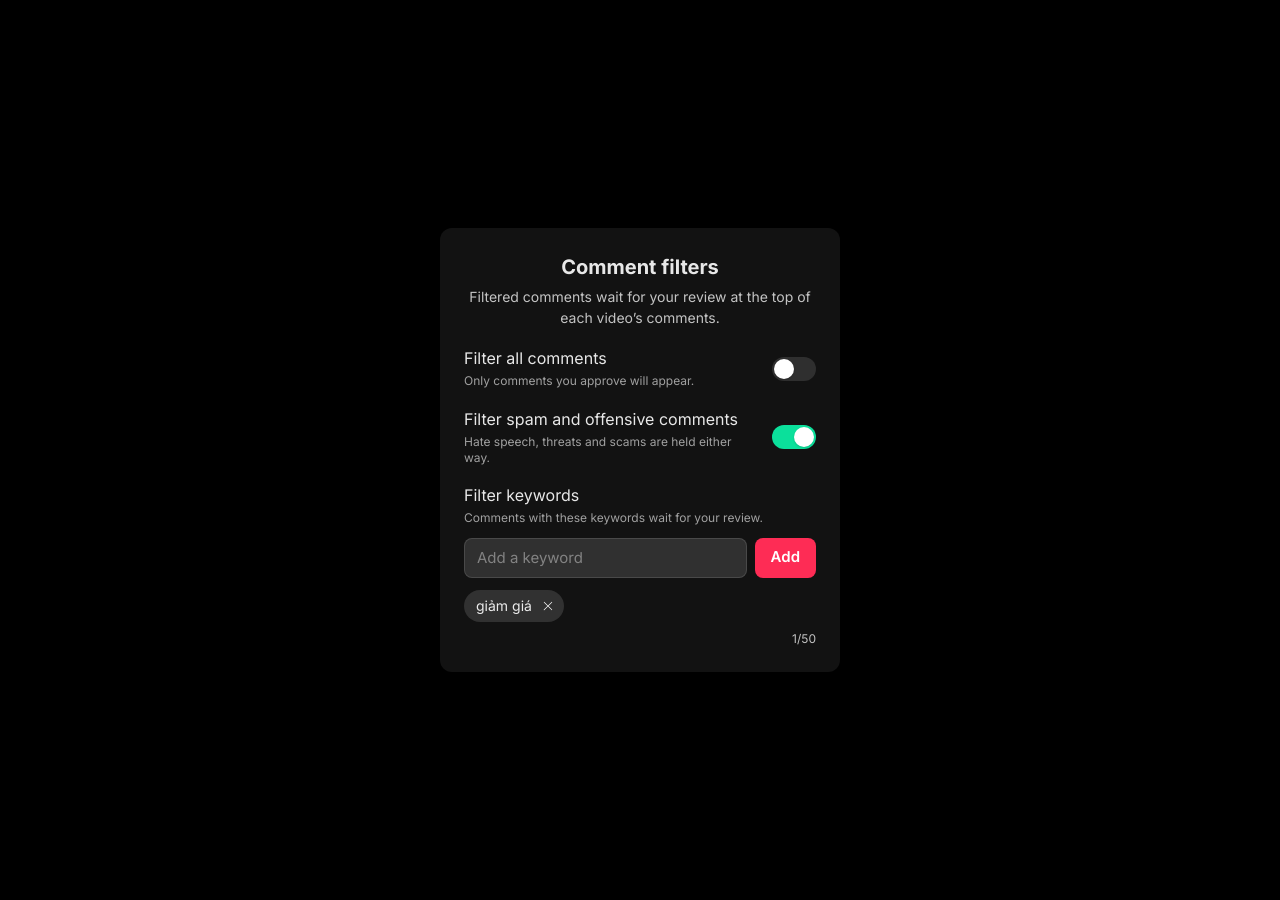
CommentFiltersModal › says a keyword is already filtered instead of sending it again
Type "Giảm Giá" into the field labelled "Add a keyword" at (605, 558), box [464, 538, 747, 578]
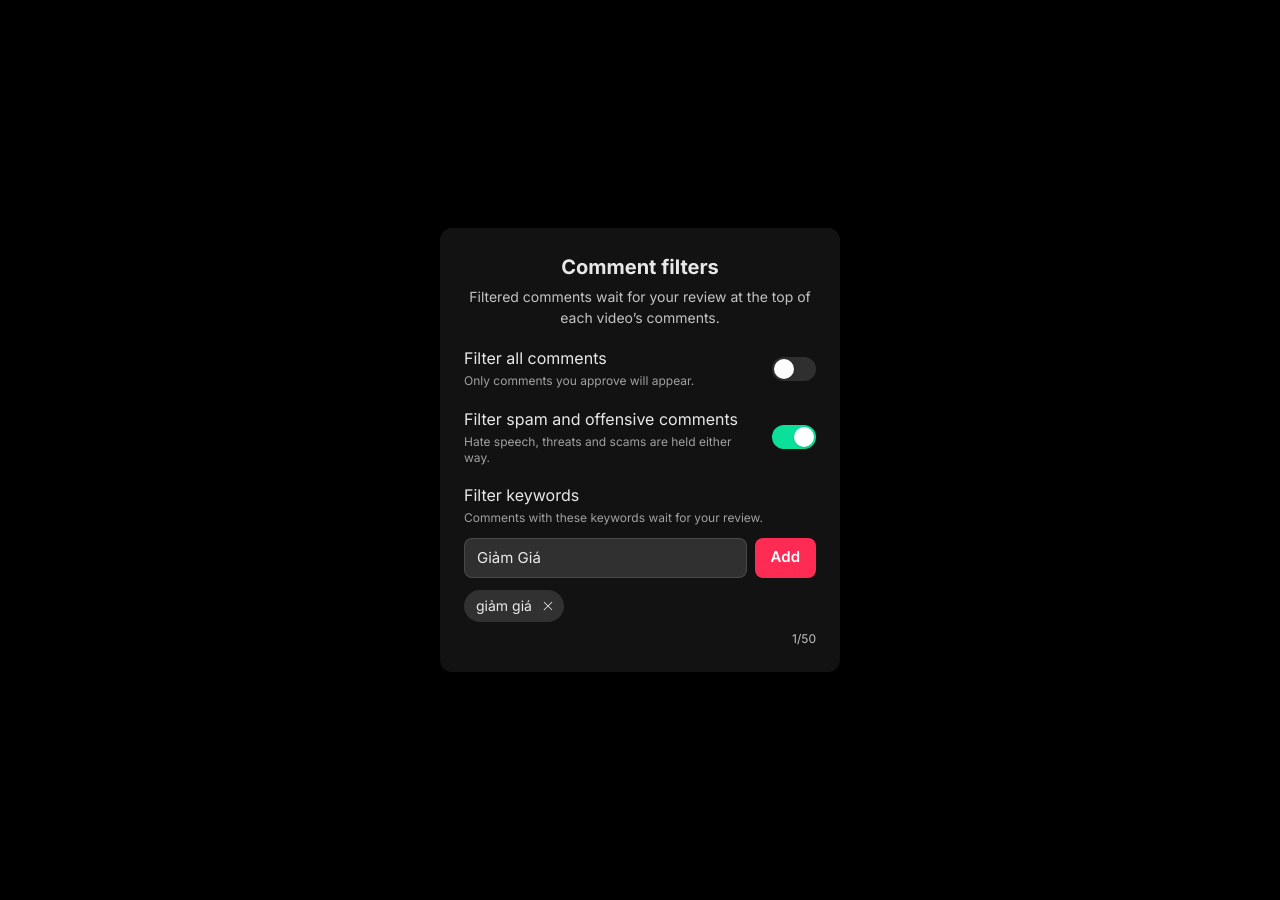
Click the button "Add" at (785, 558), box [755, 538, 816, 578]
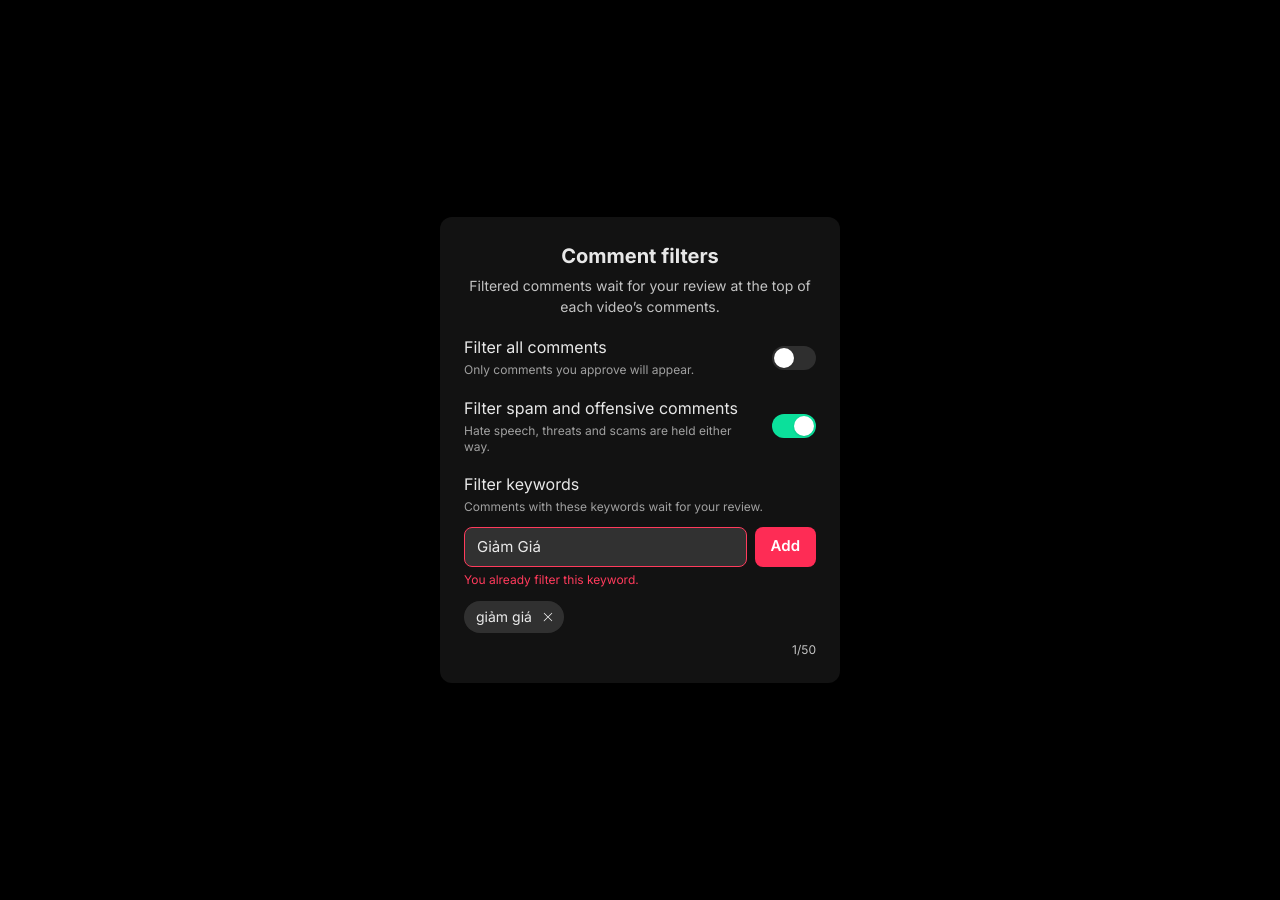
Result: the text "You already filter this keyword." is shown at [464, 572, 639, 587]
